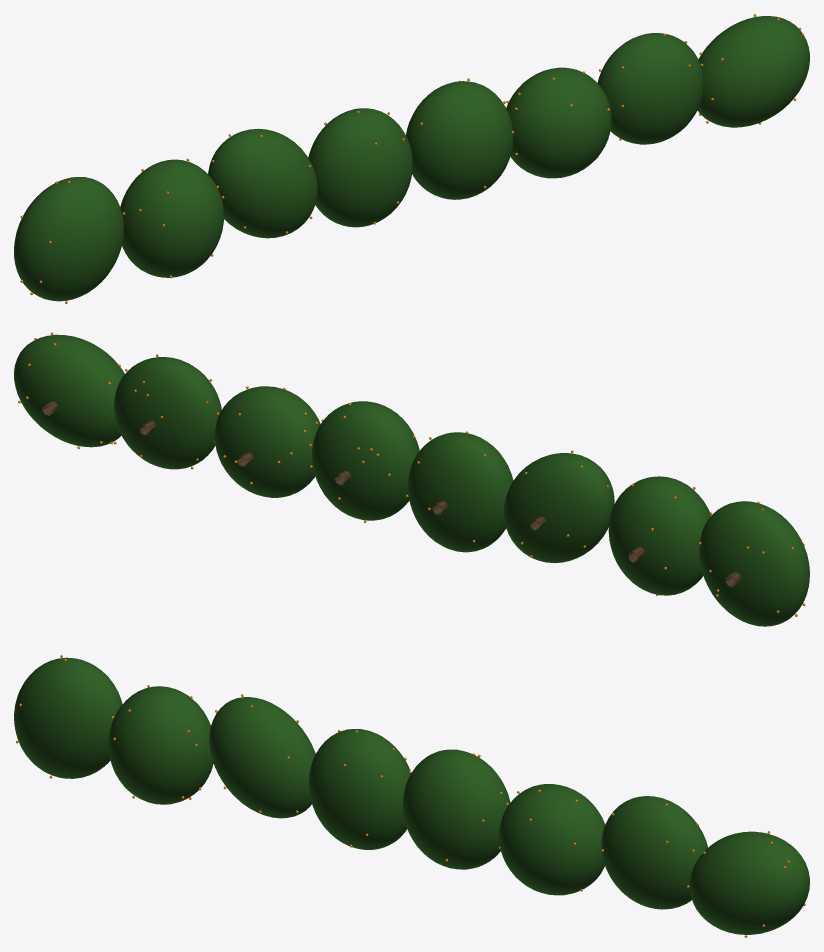
File: citrus_plain8_c_fruit.obj
The picture shows the model from 3 angles, top to bottom: view 1: azimuth 30°, elevation 25°; view 2: azimuth 150°, elevation 25°; view 3: azimuth 330°, elevation 25°; orthographic projection.
Parts seen in each view (by area): view 1: canopy, fruit; view 2: canopy, trunk, fruit; view 3: canopy, fruit.
Boxes of the visible parts, <box> form: canopy: <box>14,16,809,301</box>; fruit: <box>20,14,804,303</box>; canopy: <box>14,334,809,626</box>; trunk: <box>42,401,740,586</box>; fruit: <box>18,332,805,616</box>; canopy: <box>14,657,809,934</box>; fruit: <box>16,655,805,937</box>.
Bounding box in the file's own units: 24.31 × 3.58 × 2.87.
